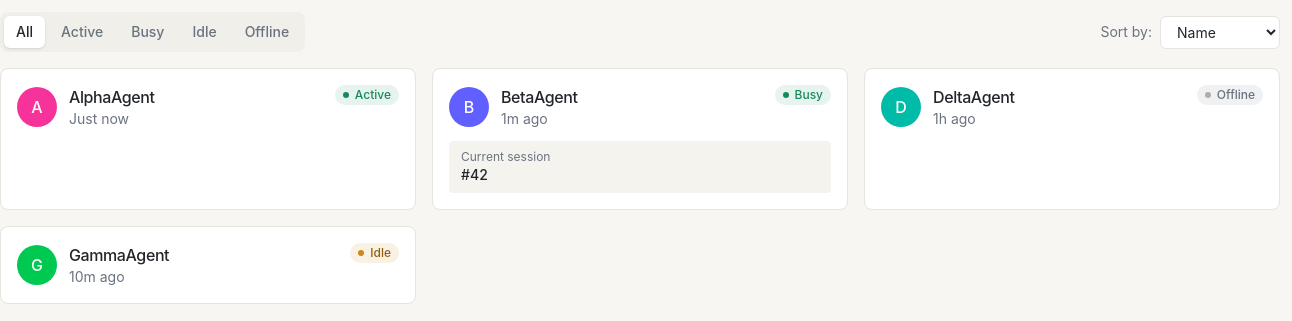
Test: AgentCardGrid › filters to idle agents
Click the button "Idle". click: coordinates (204, 32)
box: [180, 16, 229, 48]
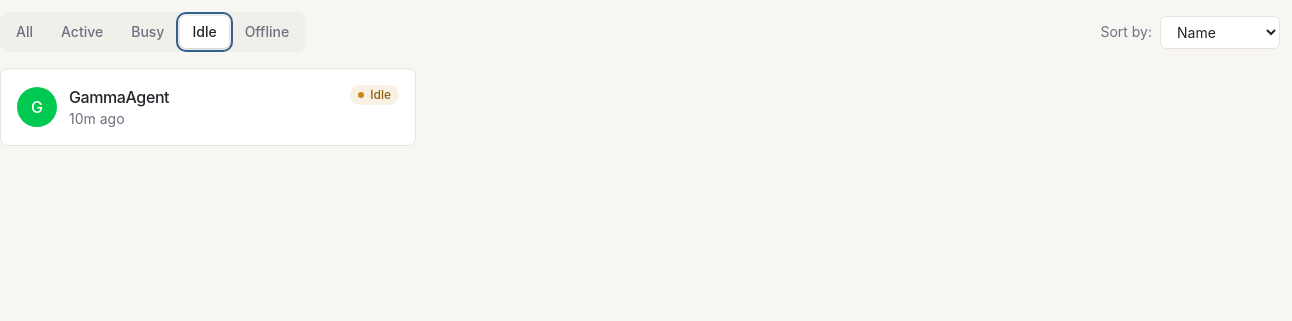
Expected: the heading "GammaAgent" is shown, [69, 87, 169, 107]
Result: the heading "AlphaAgent" is gone
